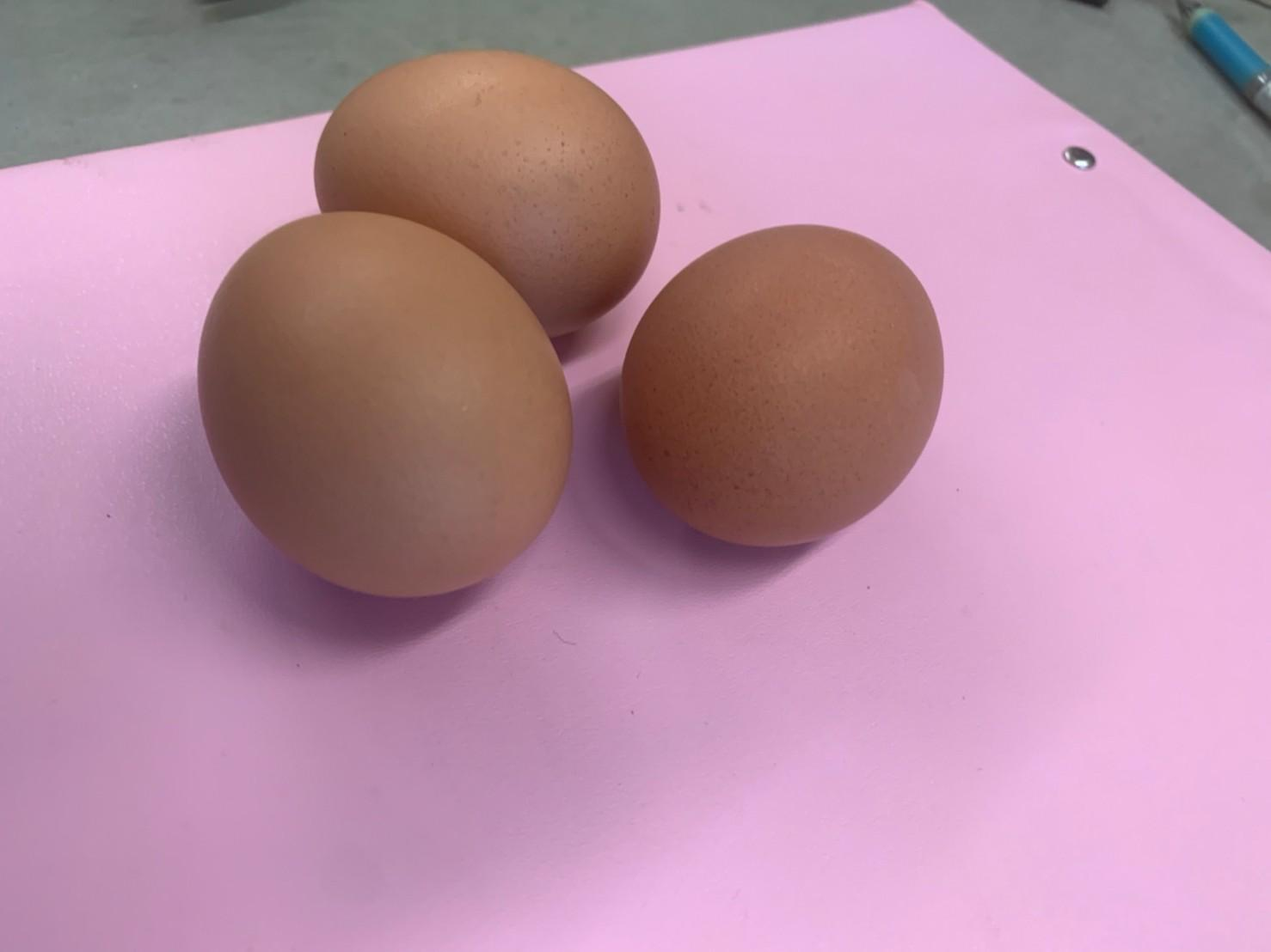egg: (193, 212, 575, 602), (610, 217, 958, 555), (306, 46, 663, 330)
